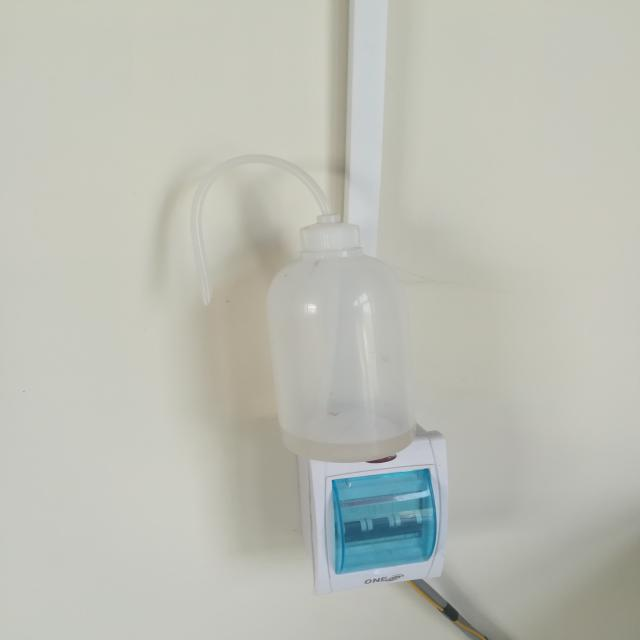Wash_Bottle: (153, 116, 471, 483)
